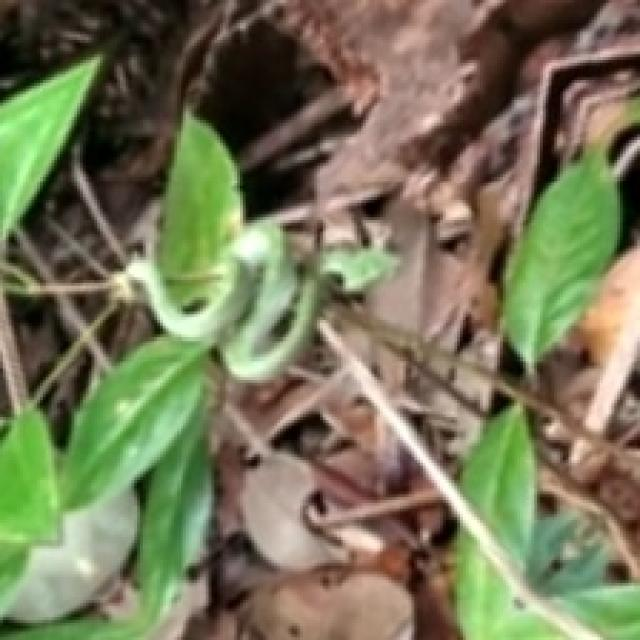north ph temple pitviper: (126, 220, 392, 381)
